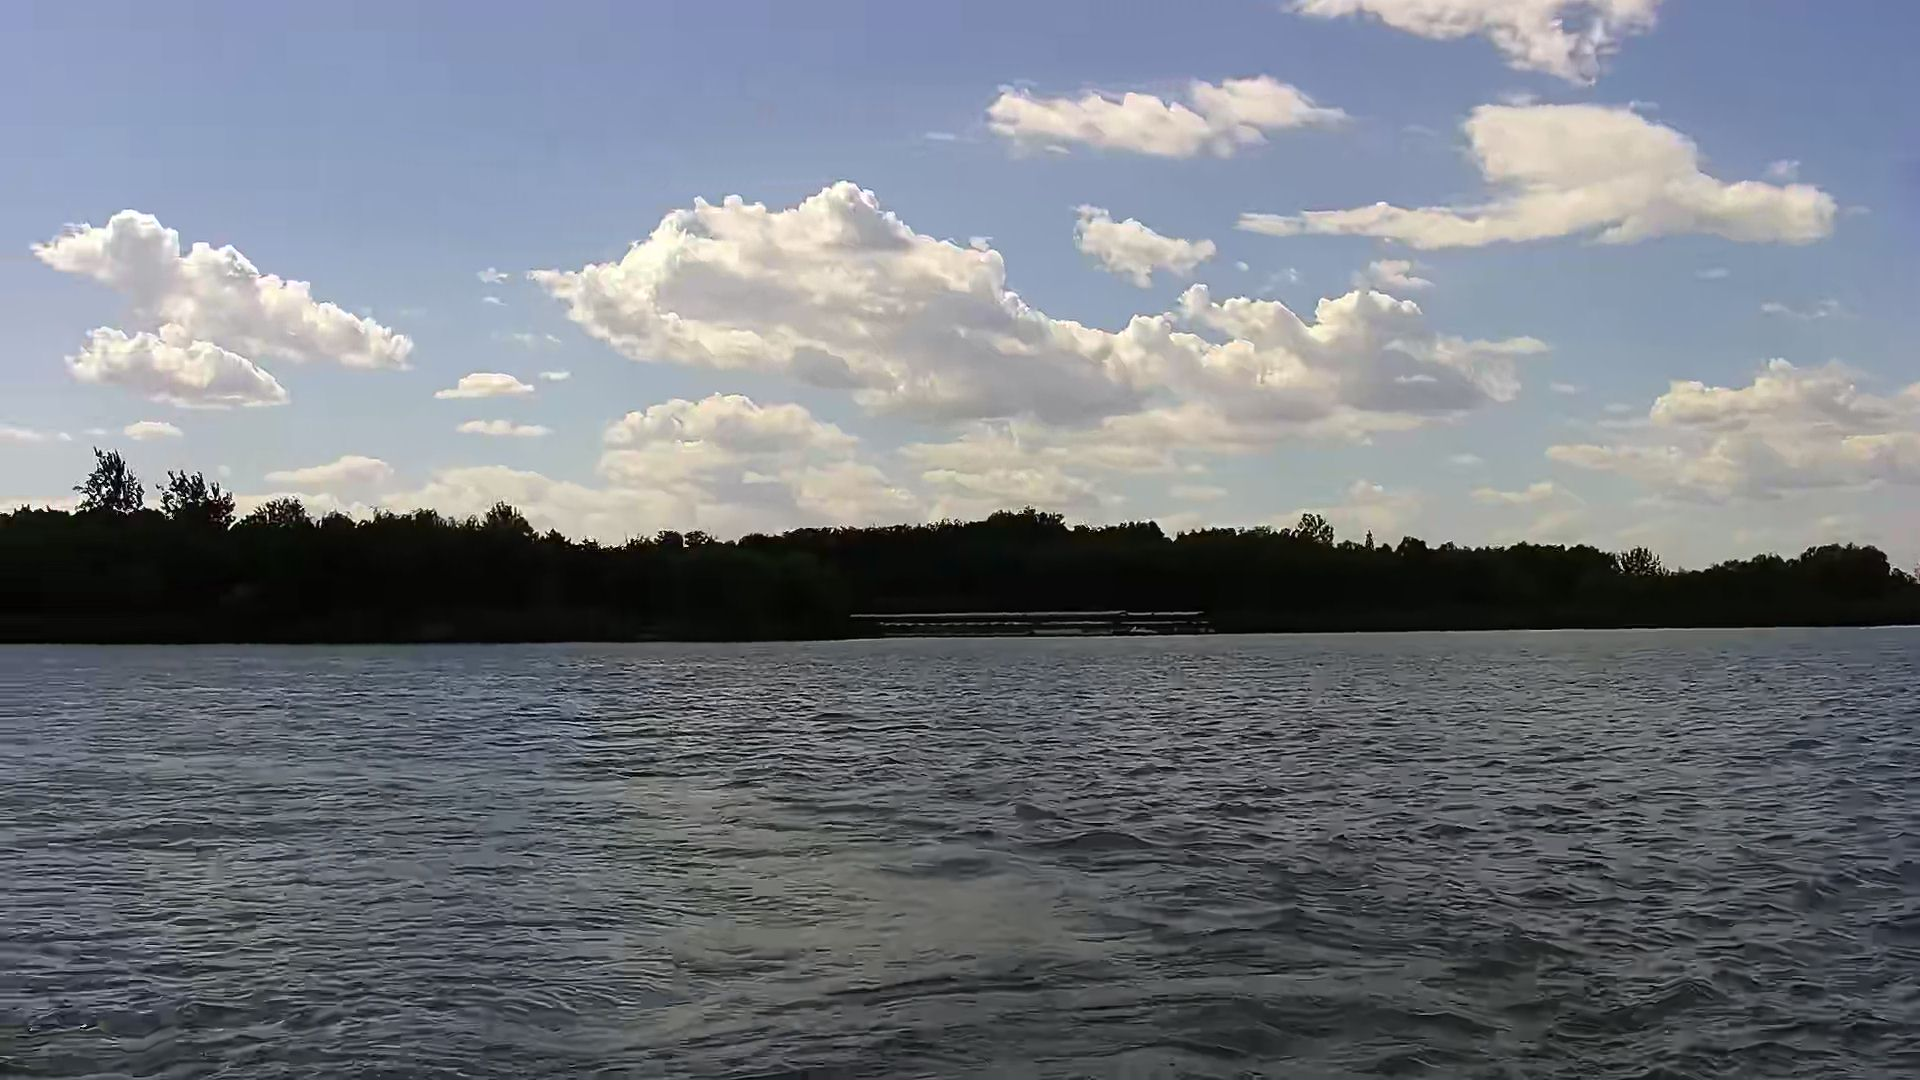harbor: (851, 608, 1209, 642)
